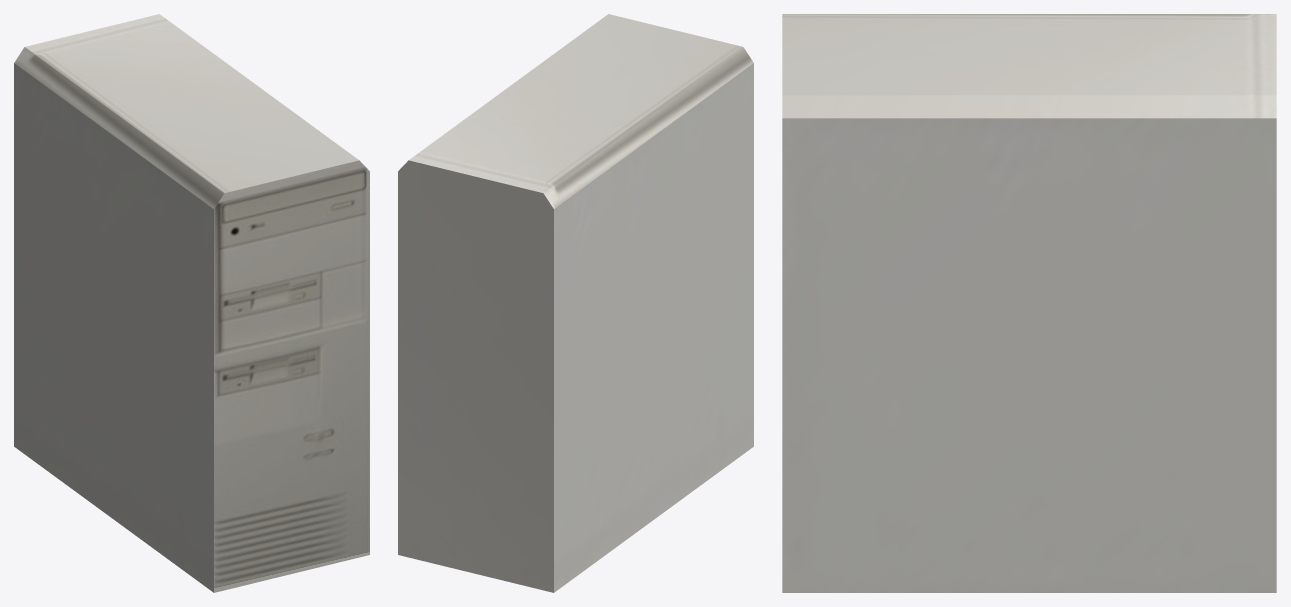
3 renders of one model, left to right at view 1: azimuth 30°, elevation 25°; view 2: azimuth 150°, elevation 25°; view 3: azimuth 270°, elevation 25°, orthographic. The views are drawn at different scales.
Visible parts, largest first — view 1: PC; view 2: PC; view 3: PC.
Part boxes in pixels (left/top/right/bottom): PC: left=14, top=14, right=369, bottom=592; PC: left=398, top=14, right=753, bottom=592; PC: left=782, top=14, right=1276, bottom=592.
Size of the model in its own units: 85.19 by 207 by 189.
